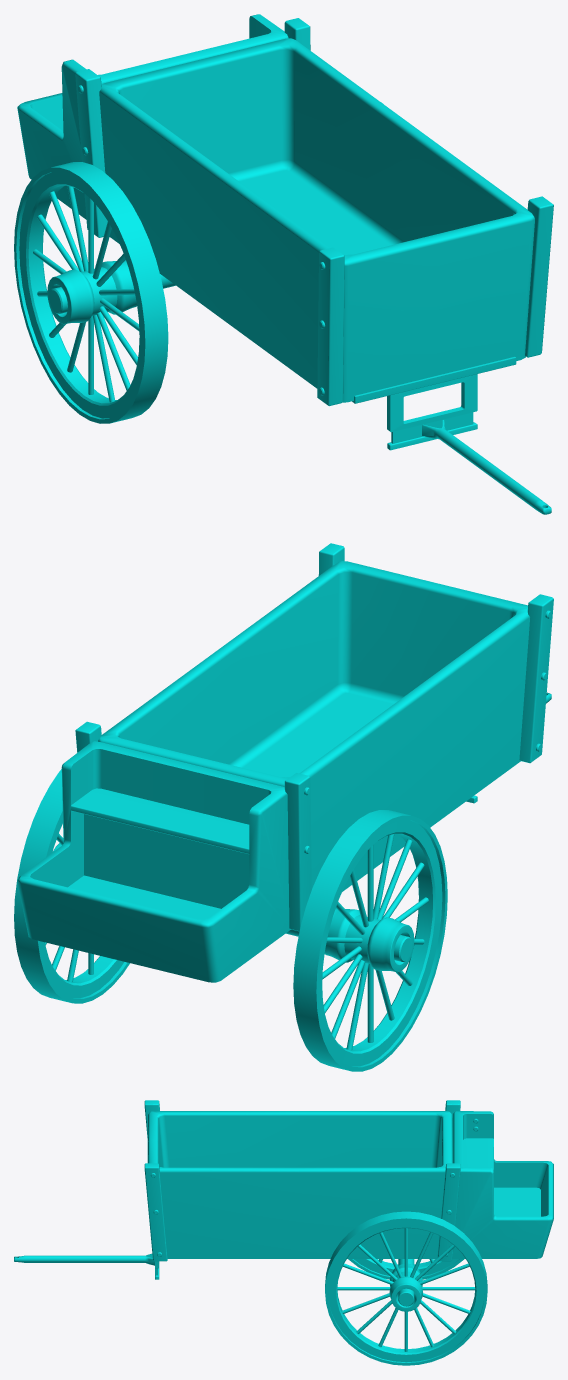
Rendered from cart.fbx.
3 renders of one model, top to bottom at view 1: azimuth 30°, elevation 25°; view 2: azimuth 150°, elevation 25°; view 3: azimuth 270°, elevation 25°, orthographic. The views are drawn at different scales.
Visible parts, largest first — view 1: screw_k_low; view 2: screw_k_low; view 3: screw_k_low.
Part boxes in pixels (x1,y1,x2,y2): screw_k_low: [14, 14, 553, 514]; screw_k_low: [14, 543, 553, 1071]; screw_k_low: [14, 1100, 553, 1365].
Size of the model in its own units: 241 by 197 by 518.
